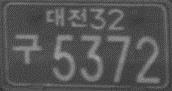2: (134, 34, 161, 85), (108, 7, 126, 32)
3: (77, 33, 103, 82), (88, 7, 106, 31)
5: (51, 33, 76, 82)
7: (105, 33, 132, 85)
구: (11, 33, 43, 65)
대전_O: (44, 6, 87, 28)
